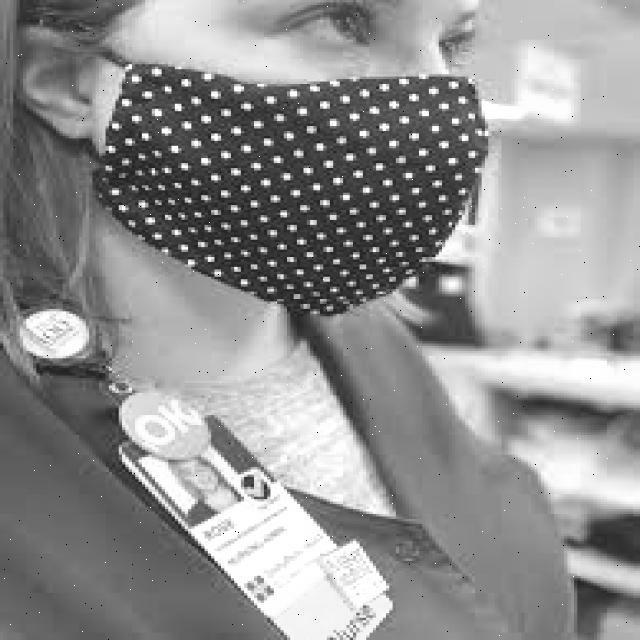fake: (90, 78, 494, 317)
real: (96, 0, 475, 317)
